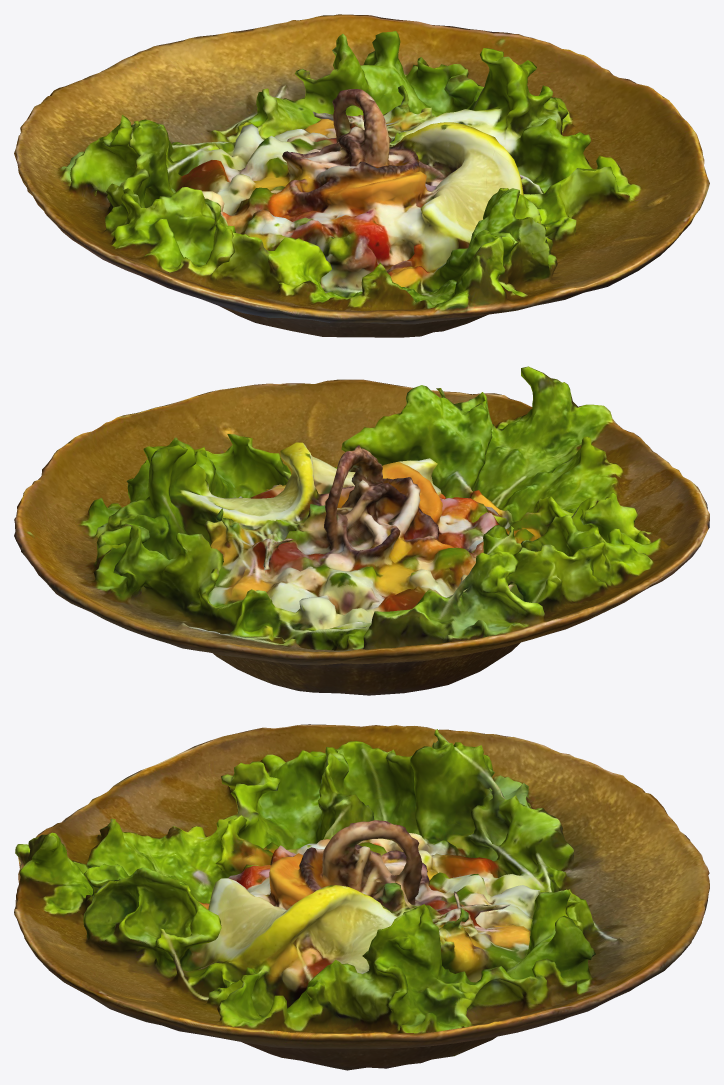
Rendered from salade-de-poulpe.ar.glb.
3 renders of one model, top to bottom at view 1: azimuth 30°, elevation 25°; view 2: azimuth 150°, elevation 25°; view 3: azimuth 270°, elevation 25°, orthographic.
Visible parts, largest first — view 1: /ObjectCapture/Geometry/Mesh; view 2: /ObjectCapture/Geometry/Mesh; view 3: /ObjectCapture/Geometry/Mesh.
Part boxes in pixels (<box>): /ObjectCapture/Geometry/Mesh: <box>14,14,709,337</box>; /ObjectCapture/Geometry/Mesh: <box>14,366,709,695</box>; /ObjectCapture/Geometry/Mesh: <box>14,724,709,1070</box>.
Bounding box in the file's own units: 0.2724 × 0.0837 × 0.2696.
Materials: 1 (1 with a texture image).
